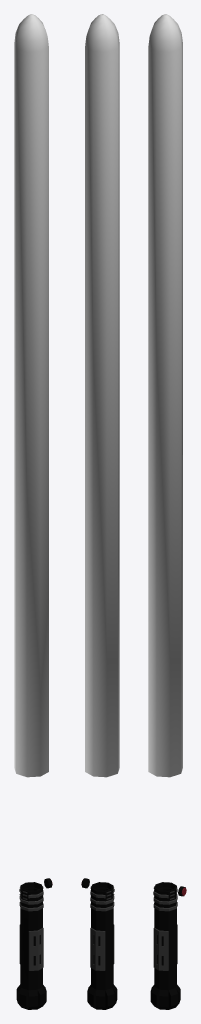
Rendered from energy_sword_laser.glb.
3 views of the same model, side by side, from view 1: azimuth 30°, elevation 25°; view 2: azimuth 150°, elevation 25°; view 3: azimuth 330°, elevation 25° (orthographic).
Parts seen in each view (by area): view 1: Blade, Base; view 2: Blade, Base; view 3: Blade, Base.
Boxes of the visible parts, x1,y1,x2,y2 form: Blade: [14, 14, 48, 777]; Base: [16, 882, 46, 1009]; Blade: [85, 14, 119, 777]; Base: [87, 882, 117, 1009]; Blade: [148, 14, 182, 777]; Base: [150, 882, 180, 1009].
Bounding box in the file's own units: 0.0687 × 1.89 × 0.0619.
2 materials, 2 textured.
